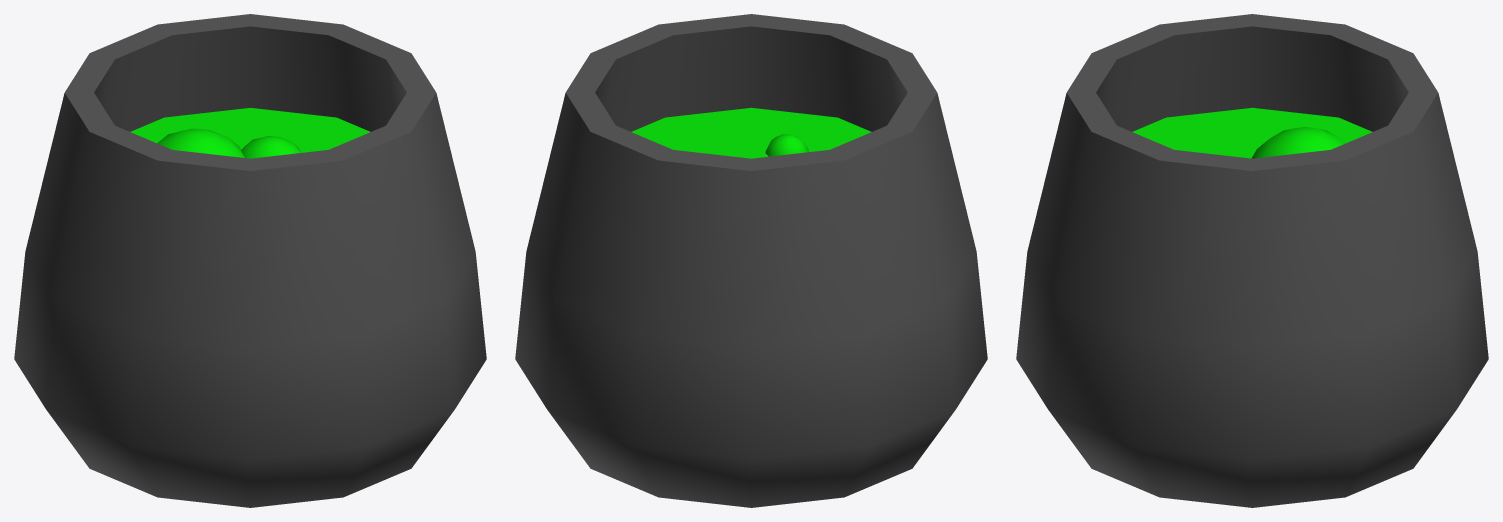
The model's file is potA.fbx.
The picture shows the model from 3 angles, left to right: view 1: azimuth 30°, elevation 25°; view 2: azimuth 150°, elevation 25°; view 3: azimuth 270°, elevation 25°; orthographic projection.
Visible parts, largest first — view 1: polySurface2, pSphere7; view 2: polySurface2, pSphere7; view 3: polySurface2, pSphere7.
Boxes of the visible parts, x1,y1,x2,y2 form: polySurface2: (14, 14, 486, 507); pSphere7: (130, 107, 370, 158); polySurface2: (515, 14, 987, 507); pSphere7: (631, 107, 871, 158); polySurface2: (1016, 14, 1488, 507); pSphere7: (1132, 107, 1372, 158).
Bounding box in the file's own units: 2.54 × 2 × 2.54.
